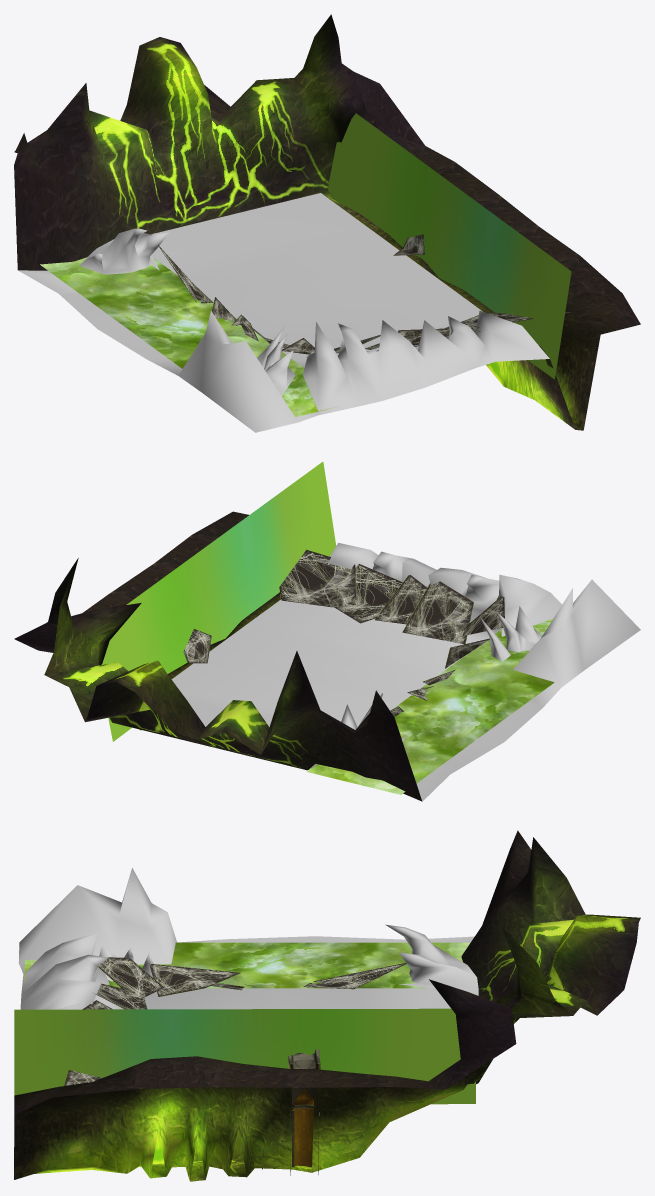
File: Map04.FBX
3 renders of one model, top to bottom at view 1: azimuth 30°, elevation 25°; view 2: azimuth 150°, elevation 25°; view 3: azimuth 270°, elevation 25°, orthographic. The views are drawn at different scales.
Visible parts, largest first — view 1: Map04_02, Map04_01, Map04light, Map04fog, Map04_03; view 2: Map04_01, Map04_02, Map04light, Map04_03, Map04fog; view 3: Map04_02, Map04light, Map04_01, Map04fog, Map04_03.
Part boxes in pixels (box(x1,y1,x2,y2)): Map04_02: box(14, 14, 640, 430); Map04_01: box(18, 193, 549, 432); Map04light: box(328, 113, 571, 379); Map04fog: box(40, 257, 336, 416); Map04_03: box(158, 234, 573, 357); Map04_01: box(171, 543, 640, 801); Map04_02: box(14, 511, 422, 801); Map04light: box(101, 461, 336, 741); Map04_03: box(183, 549, 504, 716); Map04fog: box(307, 619, 554, 794); Map04_02: box(14, 830, 640, 1181); Map04light: box(14, 1008, 475, 1104); Map04_01: box(18, 868, 478, 1009); Map04fog: box(24, 942, 470, 988); Map04_03: box(64, 957, 406, 1085).
Size of the model in its own units: 4902 by 2891 by 6627.
